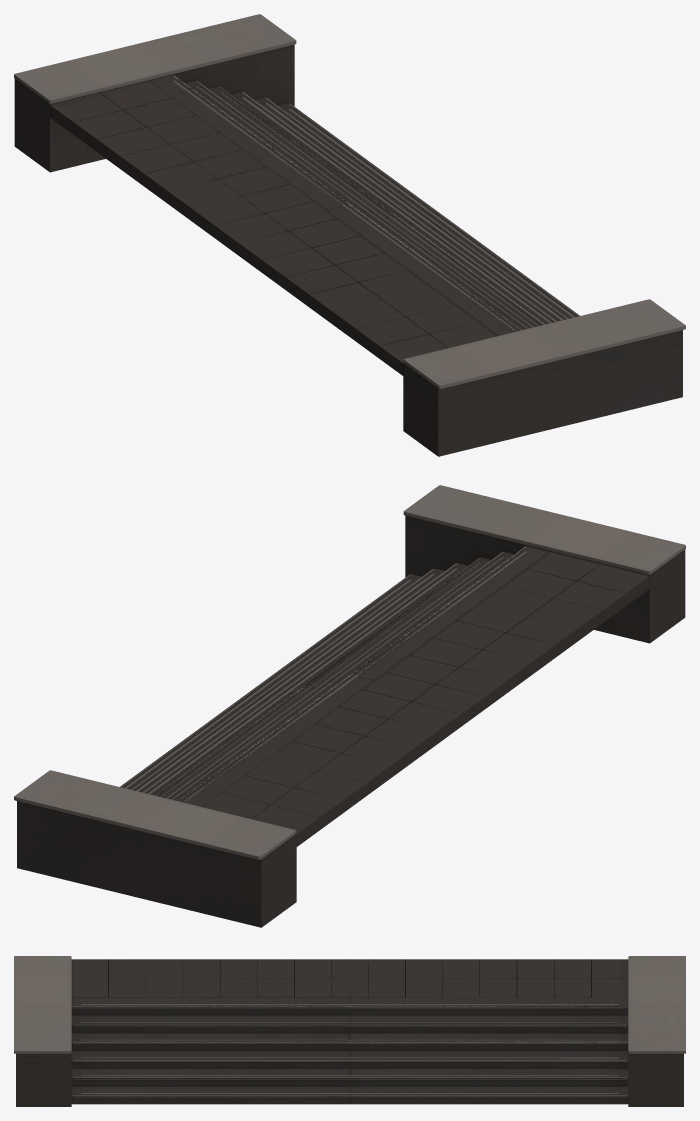
The model's file is arrival_stair.glb.
3 renders of one model, top to bottom at view 1: azimuth 30°, elevation 25°; view 2: azimuth 150°, elevation 25°; view 3: azimuth 270°, elevation 25°, orthographic. The views are drawn at different scales.
Visible parts, largest first — view 1: arrival_stair; view 2: arrival_stair; view 3: arrival_stair.
Part boxes in pixels (left/top/right/bottom): arrival_stair: left=14, top=14, right=685, bottom=456; arrival_stair: left=14, top=485, right=685, bottom=927; arrival_stair: left=14, top=956, right=685, bottom=1106.
Bounding box in the file's own units: 3.63 × 1.01 × 10.86.
Materials: 1 (1 with a texture image).
